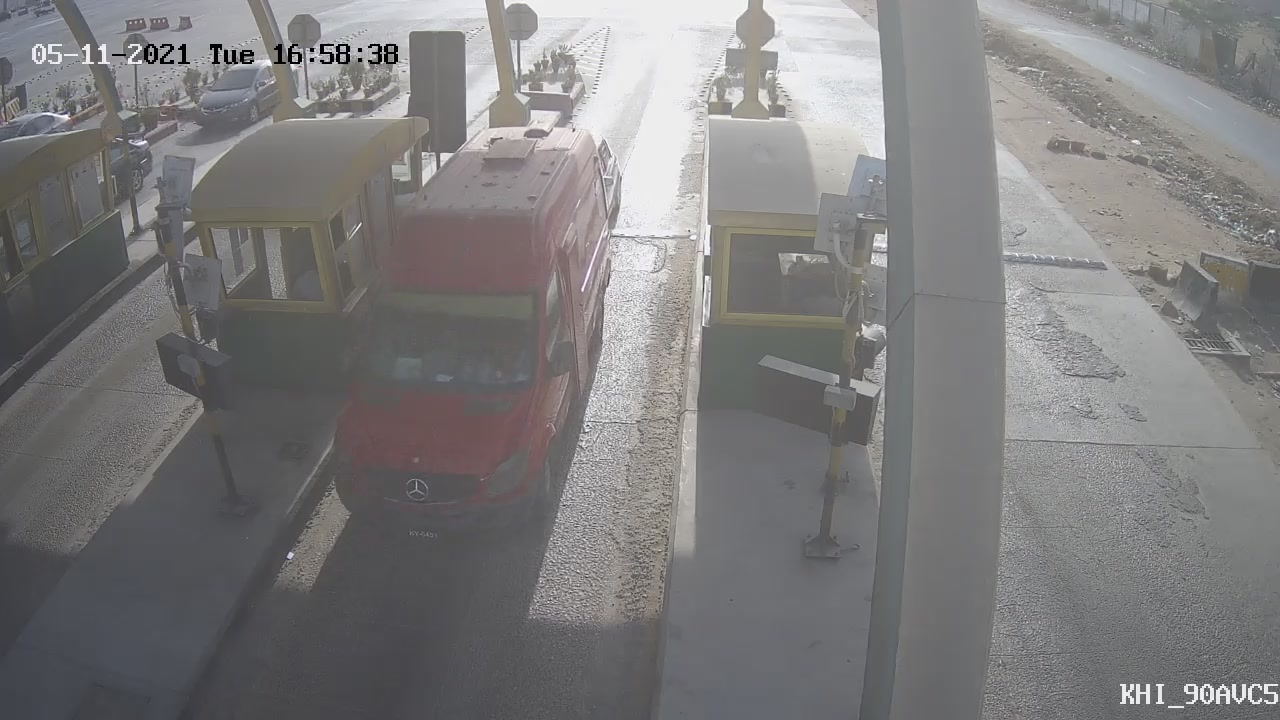F2: (285, 96, 644, 561)
